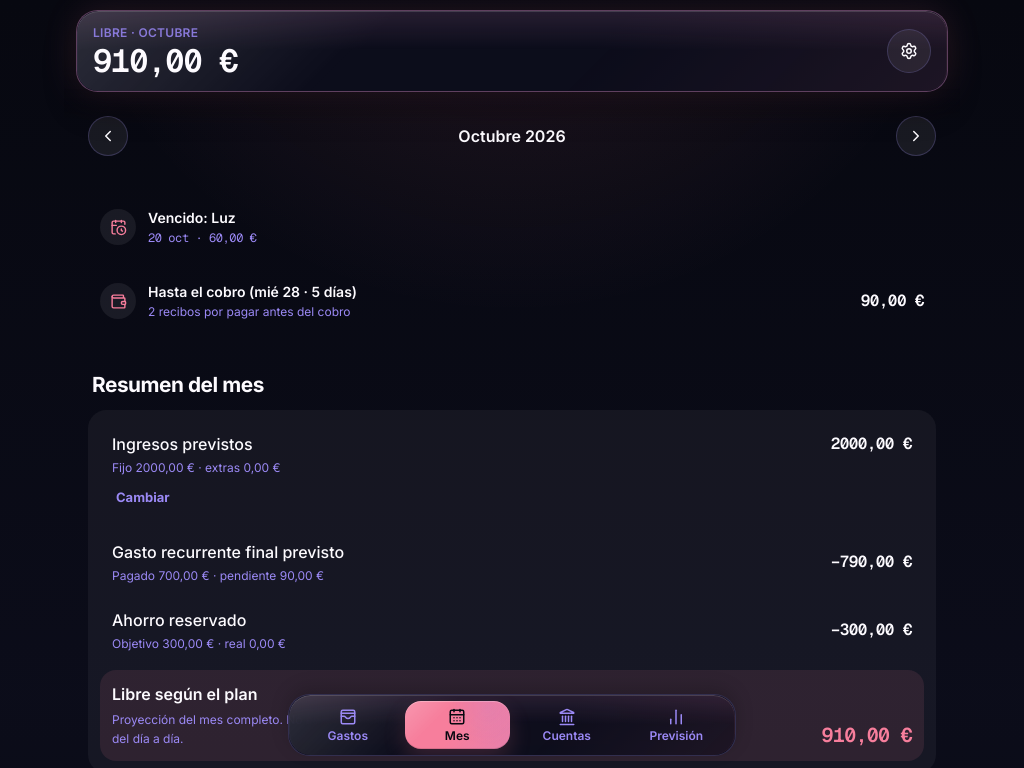
MonthDashboard › heads the tab with what is free in the month and links the bills coverage
This screenshot has width=1024, height=768.
Expected: the text "Libre · octubre" is shown, [93,25,198,40]
Expected: the text "910,00 €" is shown, [93,45,238,77]
Note: La base del plan se cambia desde la fila de ingresos.
Click the button with aria-label "Cambiar base del plan": (143, 498) [104,480,182,516]
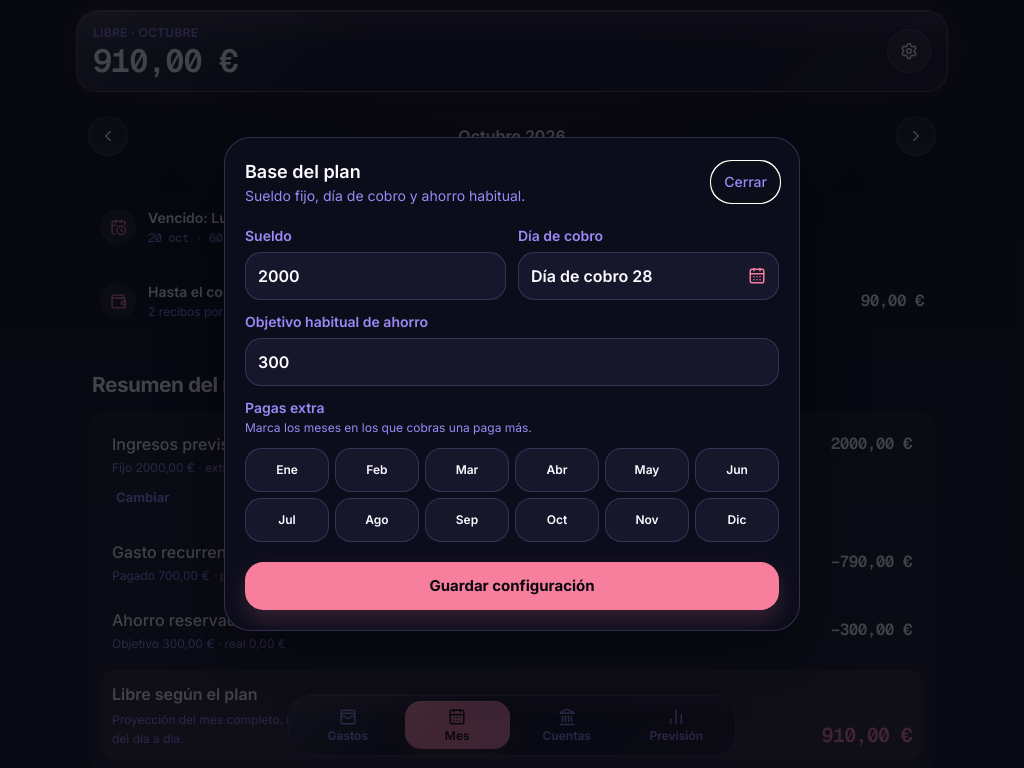
Result: the dialog "Base del plan" is shown at [224,137,800,631]
